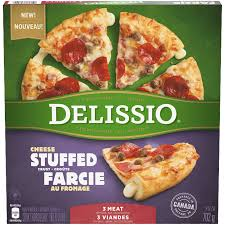pizza: (40, 10, 110, 83), (118, 15, 184, 89)
